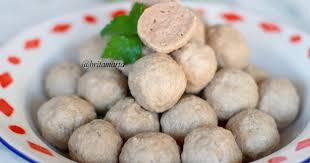bakso: (46, 11, 306, 155)
